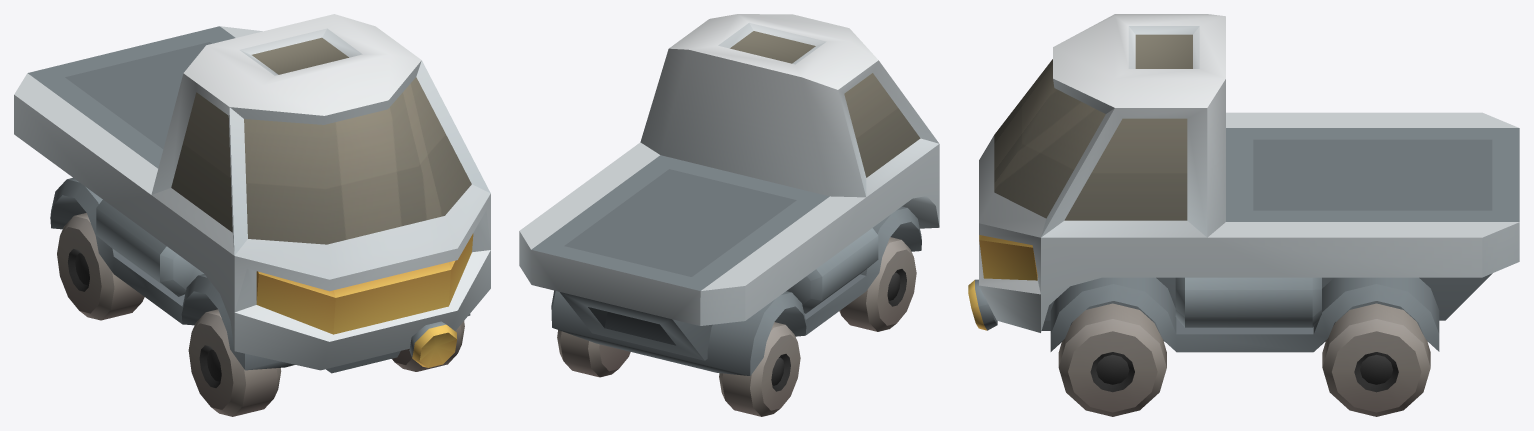
The model's file is spacetruck.glb.
3 views of the same model, side by side, from view 1: azimuth 30°, elevation 25°; view 2: azimuth 150°, elevation 25°; view 3: azimuth 270°, elevation 25° (orthographic). The views are drawn at different scales.
Visible parts, largest first — view 1: Cube.15125, spacetruck_wheel_front_right, spacetruck_wheel_rear_right, spacetruck_wheel_front_left; view 2: Cube.15125, spacetruck_wheel_rear_right, spacetruck_wheel_front_right, spacetruck_wheel_rear_left; view 3: Cube.15125, spacetruck_wheel_front_left, spacetruck_wheel_rear_left.
Part boxes in pixels (x1=…): Cube.15125: x1=14, y1=14, x2=490, y2=373; spacetruck_wheel_front_right: x1=188, y1=309, x2=281, y2=416; spacetruck_wheel_rear_right: x1=57, y1=213, x2=144, y2=320; spacetruck_wheel_front_left: x1=392, y1=321, x2=464, y2=371; Cube.15125: x1=519, y1=14, x2=939, y2=375; spacetruck_wheel_rear_right: x1=719, y1=322, x2=800, y2=416; spacetruck_wheel_front_right: x1=839, y1=237, x2=916, y2=331; spacetruck_wheel_rear_left: x1=557, y1=330, x2=630, y2=377; Cube.15125: x1=968, y1=14, x2=1519, y2=352; spacetruck_wheel_front_left: x1=1058, y1=303, x2=1166, y2=416; spacetruck_wheel_rear_left: x1=1322, y1=303, x2=1430, y2=416.
Bounding box in the file's own units: 0.4895 × 0.5662 × 0.8933.
Materials: 1 (1 with a texture image).
